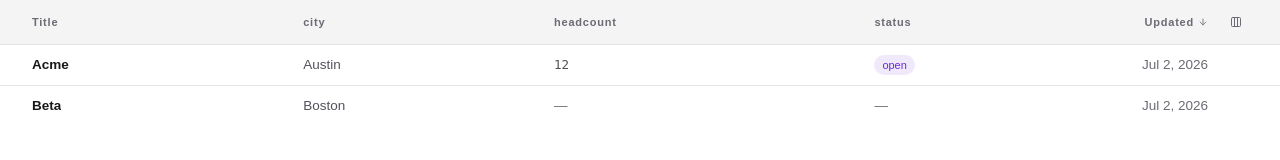
Scenario: TableLayout › shows the conflict when someone else's value wins the row
Step 1. Click the button with aria-label "Edit " → (413, 65), box [303,51,522,79]
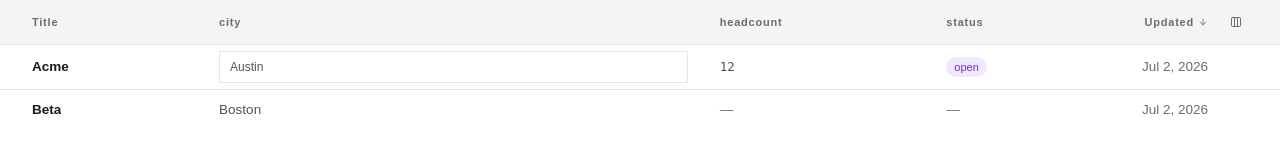
Step 2. Replace the text in the field showing "Austin" with "Boulder" → (453, 67), box [219,51,688,83]
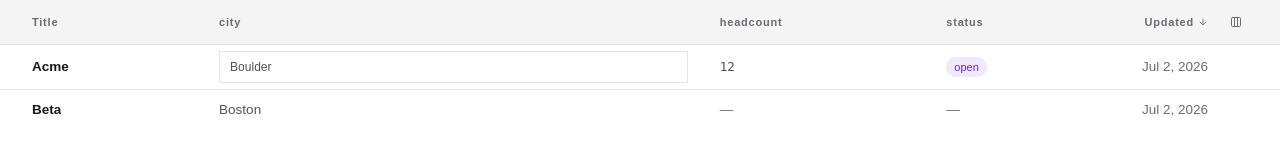
Step 3. Press Enter in the field showing "Austin", box [219,51,688,83]
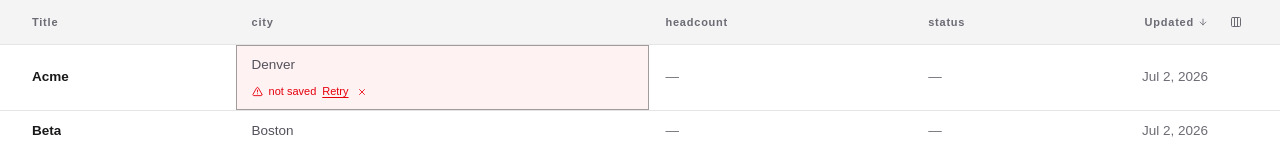
Expected: the text "not saved" is shown, [268,83,316,100]
Expected: the element named "city of Acme" shows "Denver", [252,51,633,79]
